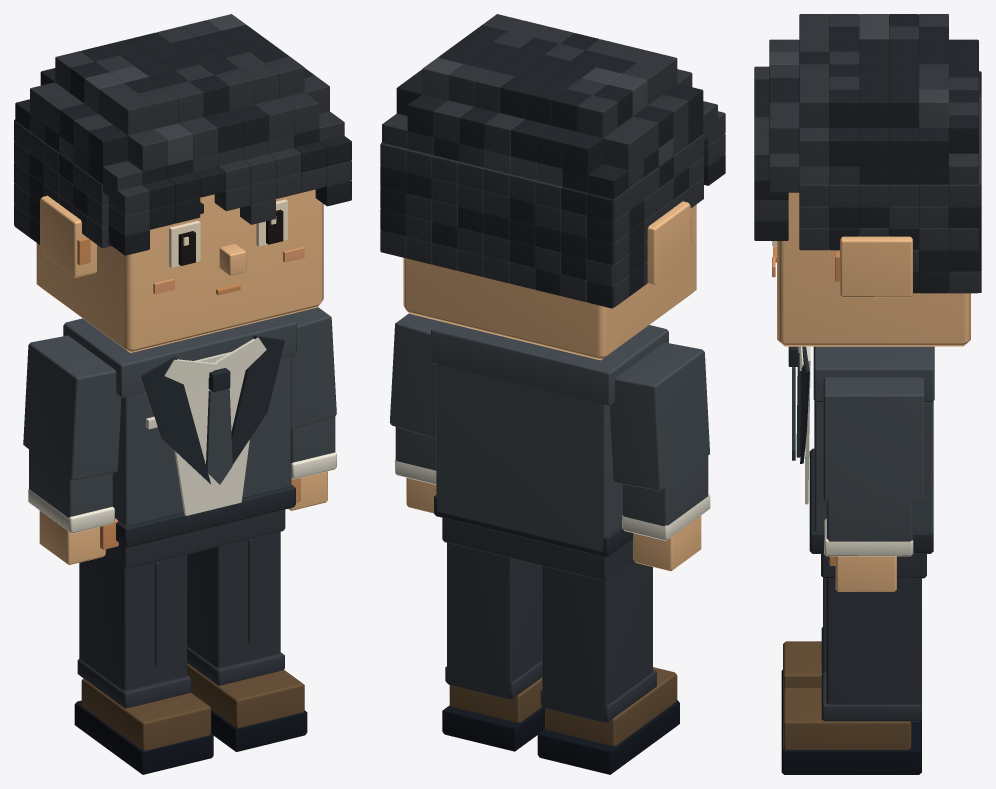
The model's file is 05_Worker_Black_Charcoal.glb.
3 renders of one model, left to right at view 1: azimuth 30°, elevation 25°; view 2: azimuth 150°, elevation 25°; view 3: azimuth 270°, elevation 25°, orthographic. The views are drawn at different scales.
Visible parts, largest first — view 1: Head.004, Trouser leg.006, Upper sleeve.008, Torso.004, Trouser leg.007, Shoulders.004, Shoe / upper.008, Upper sleeve.009, Shoe / upper.009, Ivory shirt front.001, Shirt hem.004, Waist.004 (+59 smaller); view 2: Torso.004, Head.004, Trouser leg.006, Trouser leg.007, Upper sleeve.008, Shoulders.004, Upper sleeve.009, Waist.004, Shoe / sole.008, Shoe / upper.008, Lower sleeve.008, Shoe / sole.009 (+61 smaller); view 3: Head.004, Upper sleeve.009, Trouser leg.007, Shoe / upper.009, Ear.009, Shoulders.004, Lower sleeve.009, Shoe / sole.009, Torso.004, Hand.009, Trouser cuff.007, Shoe / upper.008 (+62 smaller).
Part boxes in pixels (box(x1,y1,x2,y2)): Head.004: box(36, 189, 323, 352); Trouser leg.006: box(79, 554, 187, 690); Upper sleeve.008: box(23, 335, 121, 480); Torso.004: box(113, 356, 291, 525); Trouser leg.007: box(187, 531, 280, 667); Shoulders.004: box(63, 315, 296, 397); Shoe / upper.008: box(81, 678, 211, 750); Upper sleeve.009: box(286, 307, 336, 429); Shoe / upper.009: box(187, 663, 304, 727); Ivory shirt front.001: box(174, 352, 249, 515); Shirt hem.004: box(116, 484, 295, 547); Waist.004: box(105, 509, 285, 569); Torso.004: box(436, 363, 622, 551); Head.004: box(403, 204, 696, 360); Trouser leg.006: box(542, 560, 652, 722); Trouser leg.007: box(447, 542, 542, 699); Upper sleeve.008: box(610, 342, 709, 490); Shoulders.004: box(431, 322, 668, 406); Upper sleeve.009: box(390, 313, 441, 438); Waist.004: box(442, 518, 633, 580); Shoe / sole.008: box(537, 700, 679, 774); Shoe / upper.008: box(545, 667, 677, 745); Lower sleeve.008: box(622, 448, 708, 526); Shoe / sole.009: box(442, 705, 544, 751); Head.004: box(777, 192, 970, 346); Upper sleeve.009: box(823, 377, 924, 501); Trouser leg.007: box(826, 578, 921, 719); Shoe / upper.009: box(783, 688, 911, 749); Ear.009: box(840, 236, 912, 297); Shoulders.004: box(813, 346, 934, 402); Lower sleeve.009: box(826, 492, 913, 541); Shoe / sole.009: box(781, 716, 921, 774); Torso.004: box(814, 401, 933, 533); Hand.009: box(835, 556, 896, 591); Trouser cuff.007: box(821, 672, 921, 721); Shoe / upper.008: box(783, 641, 822, 690).
Size of the model in its own units: 1.06 by 2.5 by 0.763.
